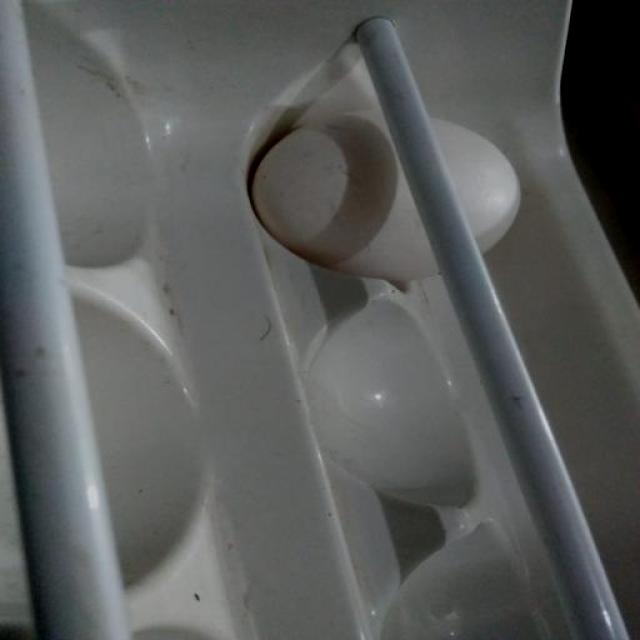telur: (247, 102, 526, 284)
